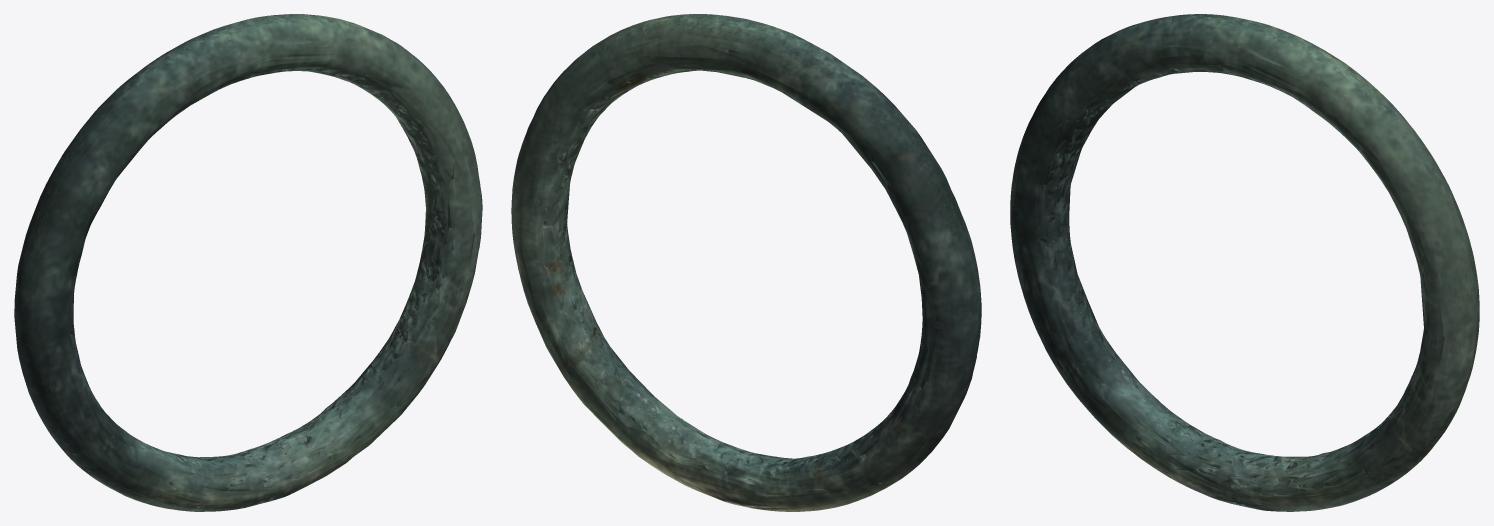
The model's file is 777_jade_bangle.glb.
3 renders of one model, left to right at view 1: azimuth 30°, elevation 25°; view 2: azimuth 150°, elevation 25°; view 3: azimuth 330°, elevation 25°, orthographic.
Visible parts, largest first — view 1: _jade_bangle1:Group_Global; view 2: _jade_bangle1:Group_Global; view 3: _jade_bangle1:Group_Global.
Boxes of the visible parts, x1,y1,x2,y2 form: _jade_bangle1:Group_Global: (14,14,482,511); _jade_bangle1:Group_Global: (511,14,981,511); _jade_bangle1:Group_Global: (1010,14,1479,511).
Size of the model in its own units: 0.0182 by 0.0182 by 0.00207.
Materials: 1 (1 with a texture image).
